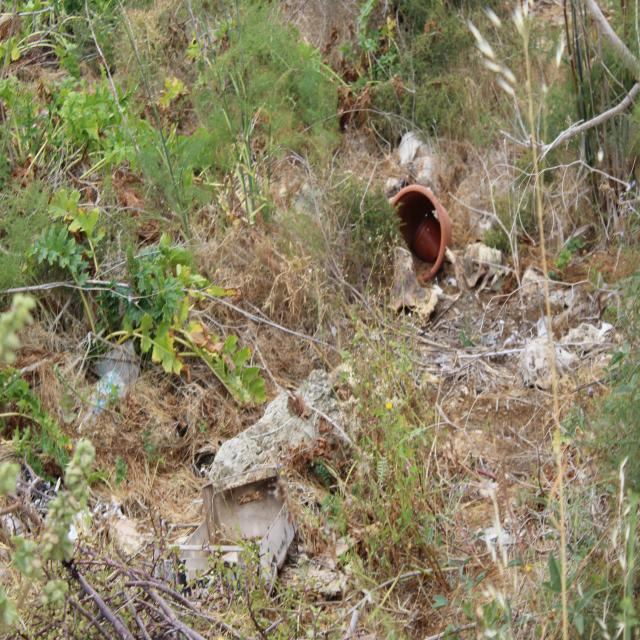Other litter: (163, 458, 300, 605), (390, 184, 452, 283)
Other plastic: (77, 337, 141, 431), (397, 129, 443, 191)
Unlabeled litter: (67, 509, 92, 542), (0, 512, 30, 539)
